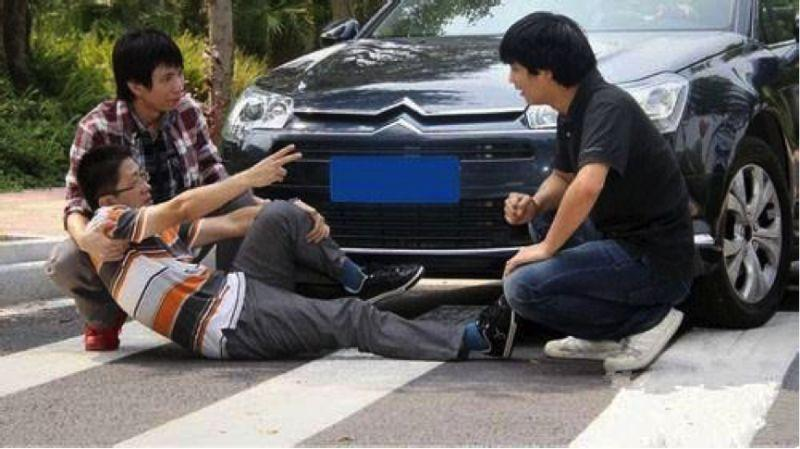Fall-Detected: (60, 132, 514, 369)
